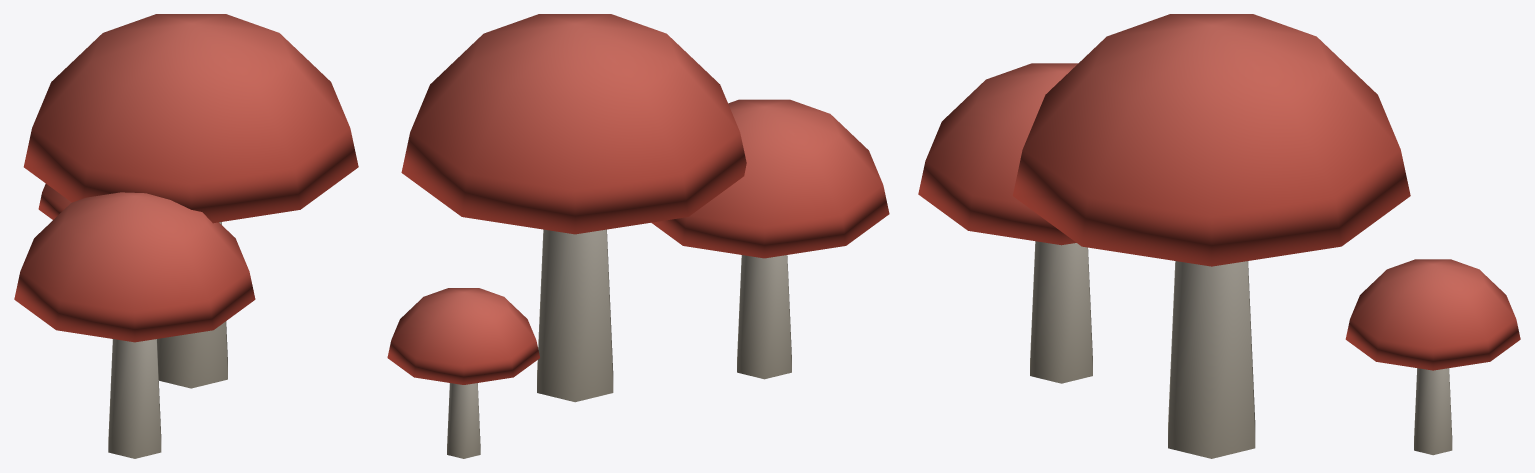
File: mushroom_red.glb
3 views of the same model, side by side, from view 1: azimuth 30°, elevation 25°; view 2: azimuth 150°, elevation 25°; view 3: azimuth 270°, elevation 25° (orthographic). The views are drawn at different scales.
Parts seen in each view (by area): view 1: mushroom_red; view 2: mushroom_red; view 3: mushroom_red.
Boxes of the visible parts, x1,y1,x2,y2 form: mushroom_red: [14, 14, 358, 458]; mushroom_red: [387, 14, 889, 458]; mushroom_red: [918, 14, 1520, 458].
Bounding box in the file's own units: 0.4975 × 0.45 × 0.5962.
